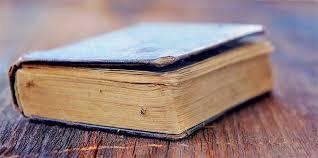Paper: (8, 8, 296, 153)
